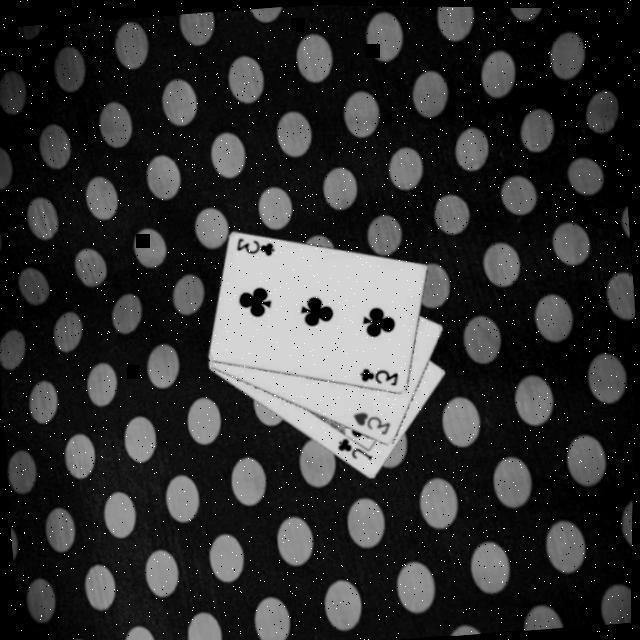3C: (233, 232, 279, 263), (358, 362, 404, 392)
3H: (352, 406, 396, 441)
JC: (336, 433, 378, 466)
